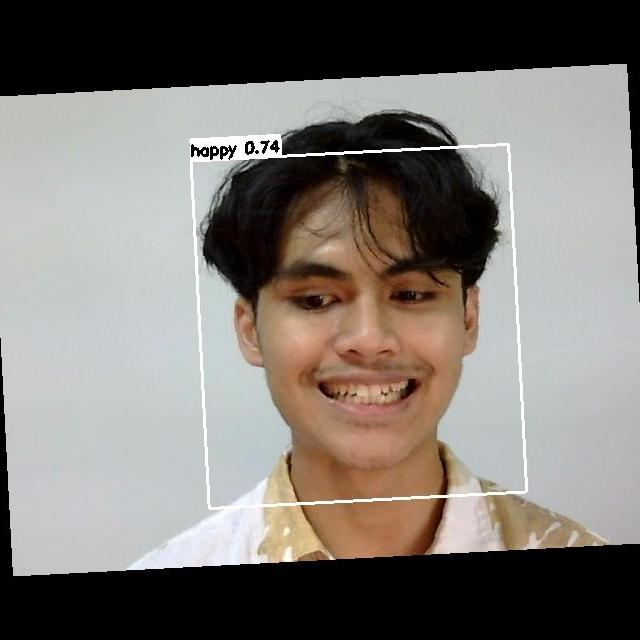Happy: (251, 236, 477, 448)
